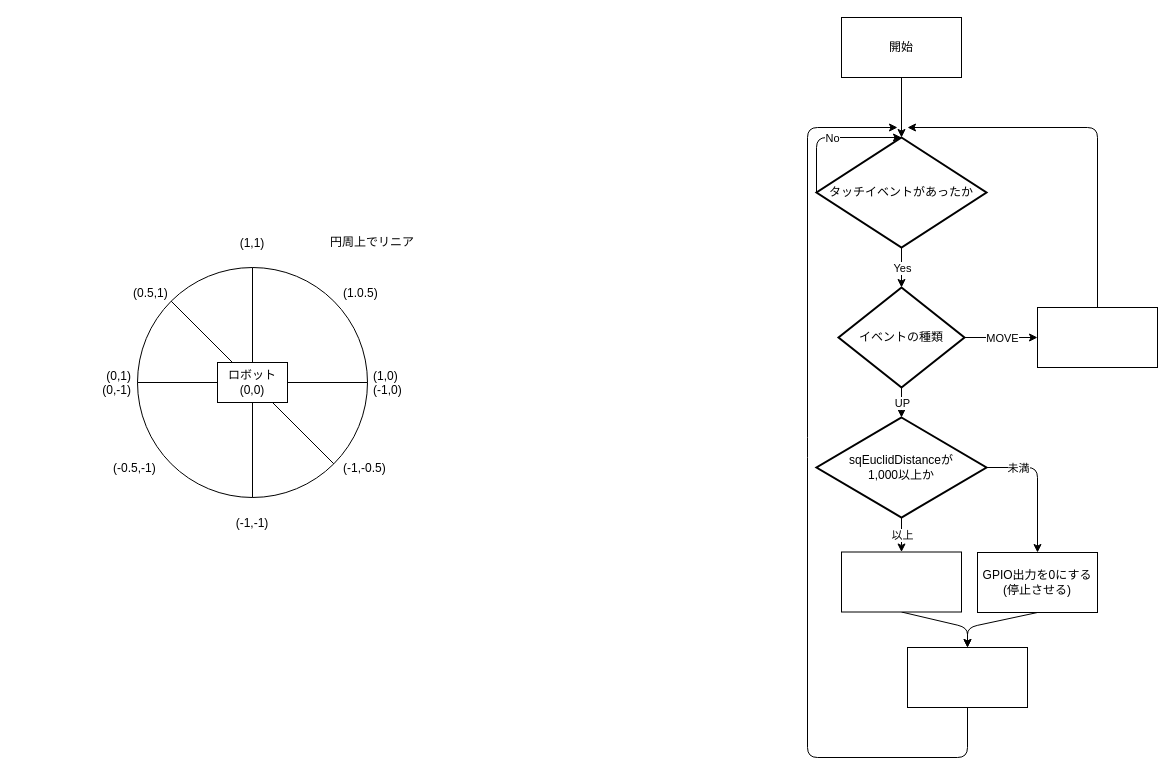
Image size: 1175x783. Some labels were removed from this diagram. Each missing label, with the centre of its shape:
GPIOを一つ前のまま固定(何もしない): (x=901, y=581)
originX, originY, newX, NewY をリセット: (x=967, y=677)
角度を算出して GPIOから出力する: (x=1097, y=337)
